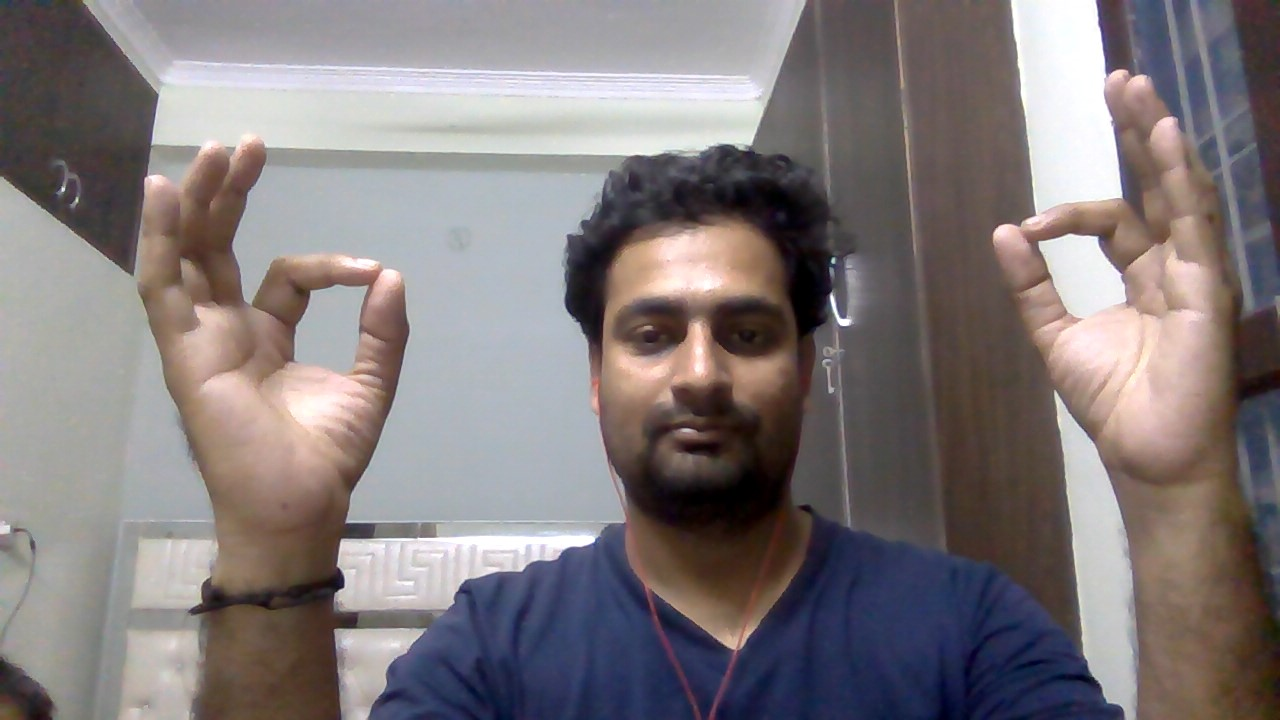Copy: (971, 64, 1269, 498), (119, 131, 424, 545)
